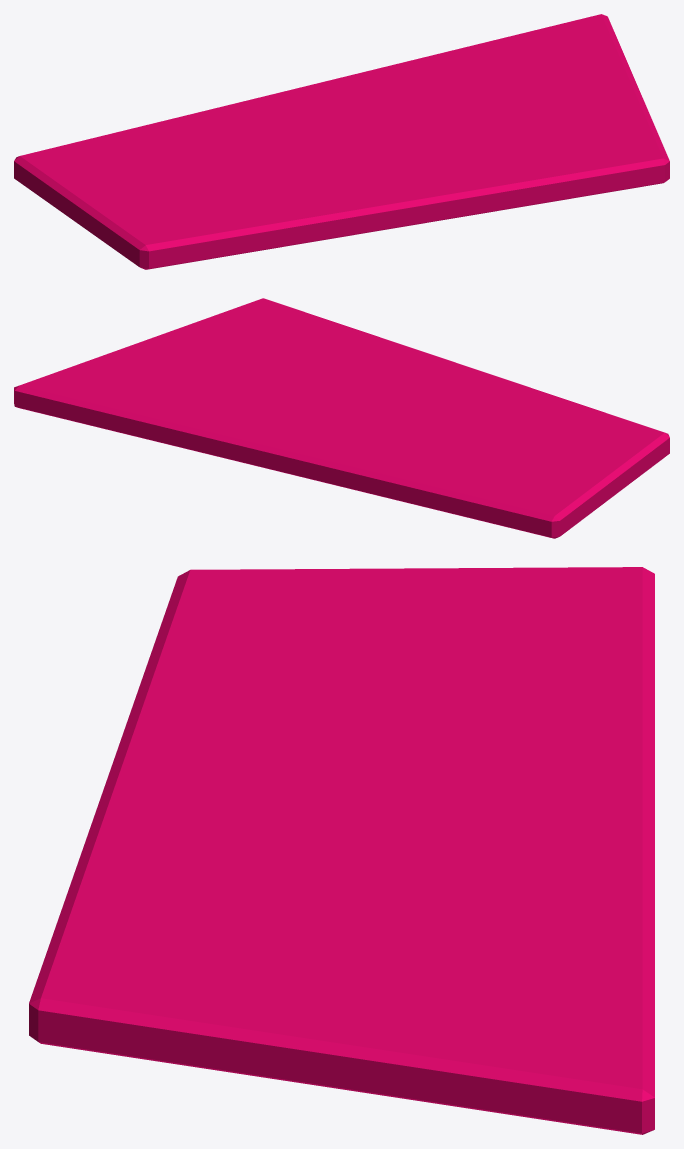
Rendered from Board_Form_07.fbx.
3 renders of one model, top to bottom at view 1: azimuth 30°, elevation 25°; view 2: azimuth 150°, elevation 25°; view 3: azimuth 270°, elevation 25°, orthographic. The views are drawn at different scales.
Visible parts, largest first — view 1: Board_Form_07; view 2: Board_Form_07; view 3: Board_Form_07.
Boxes of the visible parts, <box> form: Board_Form_07: <box>14,14,669,269</box>; Board_Form_07: <box>14,298,669,538</box>; Board_Form_07: <box>29,567,654,1134</box>.
Size of the model in its own units: 7.91 by 0.3156 by 3.93.
